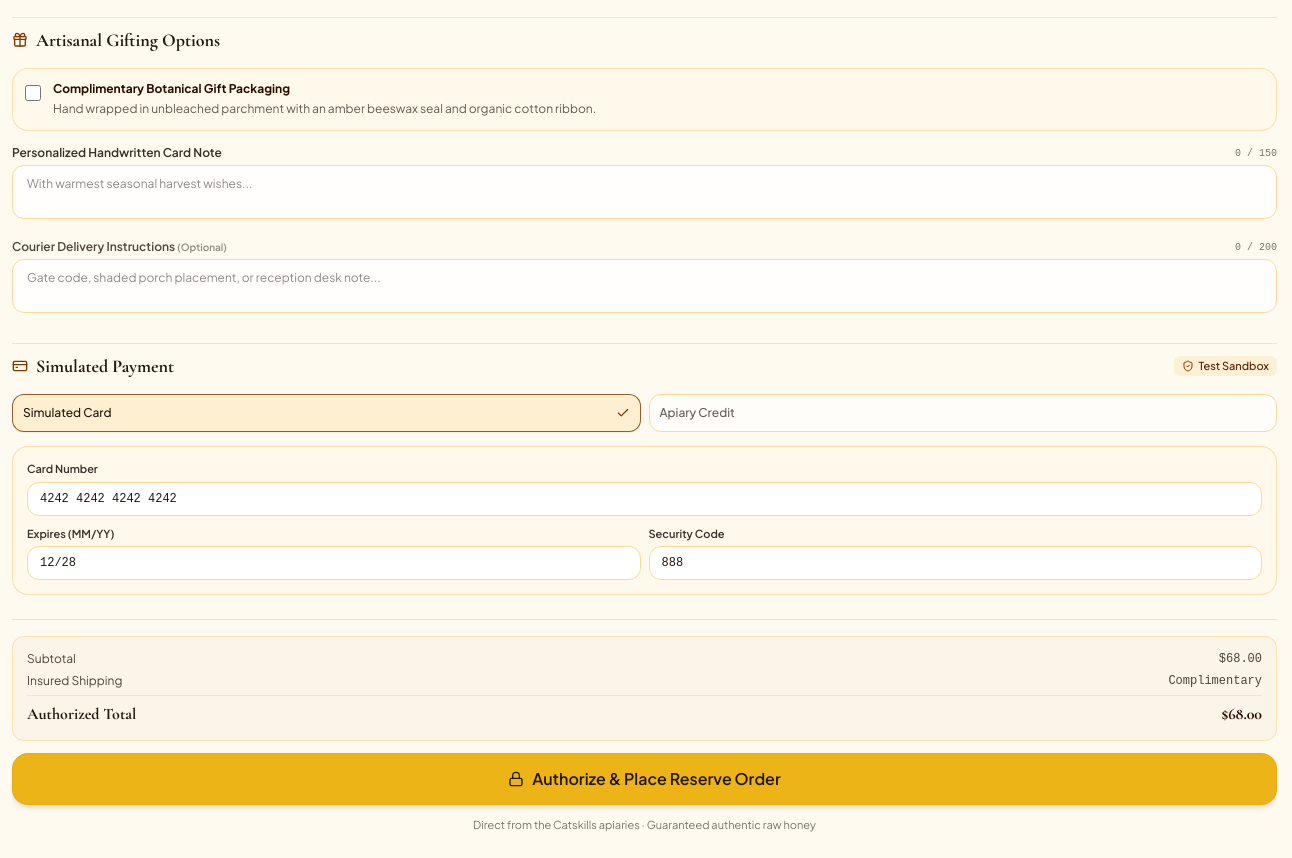
Test: CheckoutForm Component (satisfies AC-4, AC-5, AC-6, AC-7) › allows switching payment method between card and apiary reserve credit (AC-5)
(page scrolled)
What coordinates should you click on to do the following:
click the button "Apiary Credit"
I would click on:
 (697, 412)
Its box is [648, 394, 1277, 432].
(page scrolled)
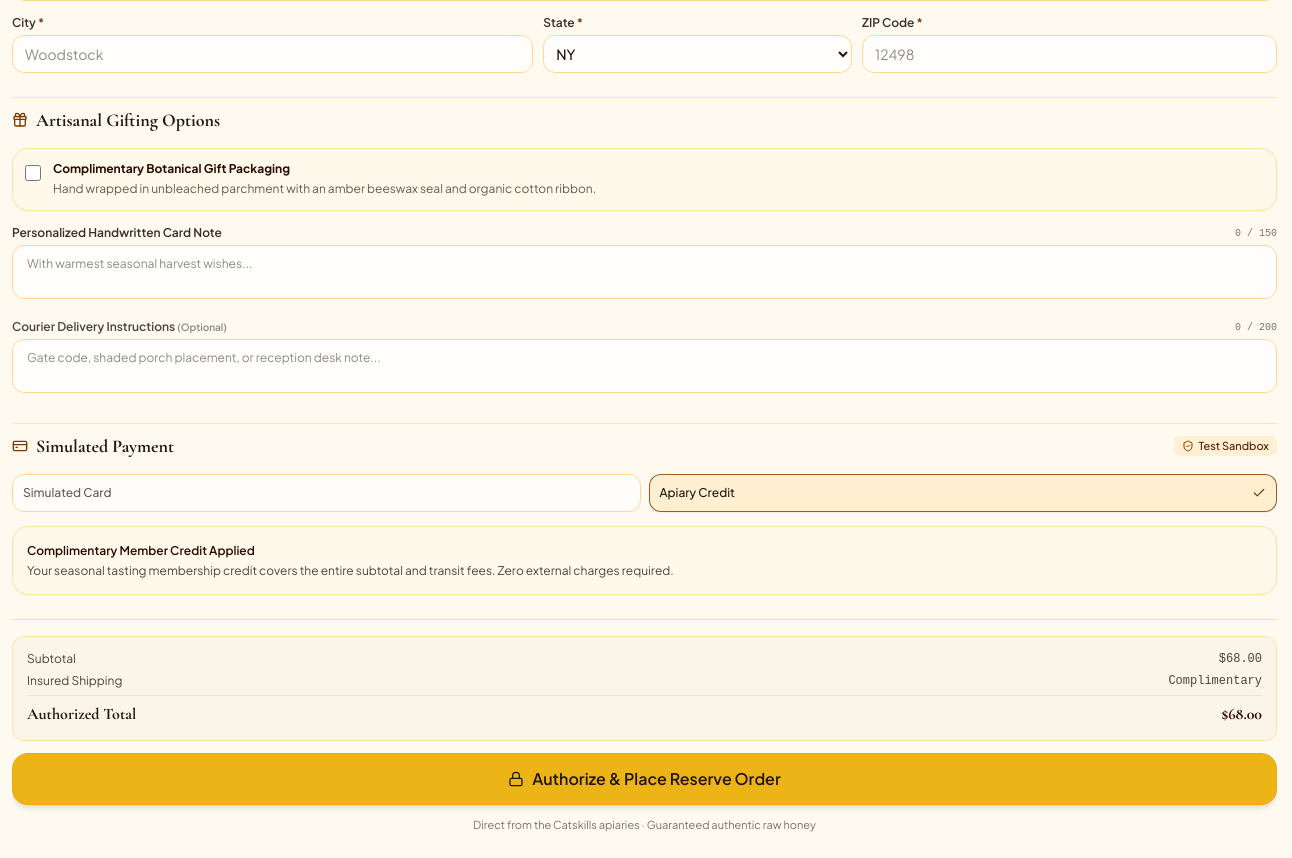
Result: the text "Complimentary Member Credit Applied" is shown at [27, 543, 255, 558]
Result: the label labelled "Card Number" is gone
What coordinates should you click on to do the following:
click the button "Simulated Card"
I would click on:
 (67, 492)
Its box is [12, 474, 640, 512].
(page scrolled)
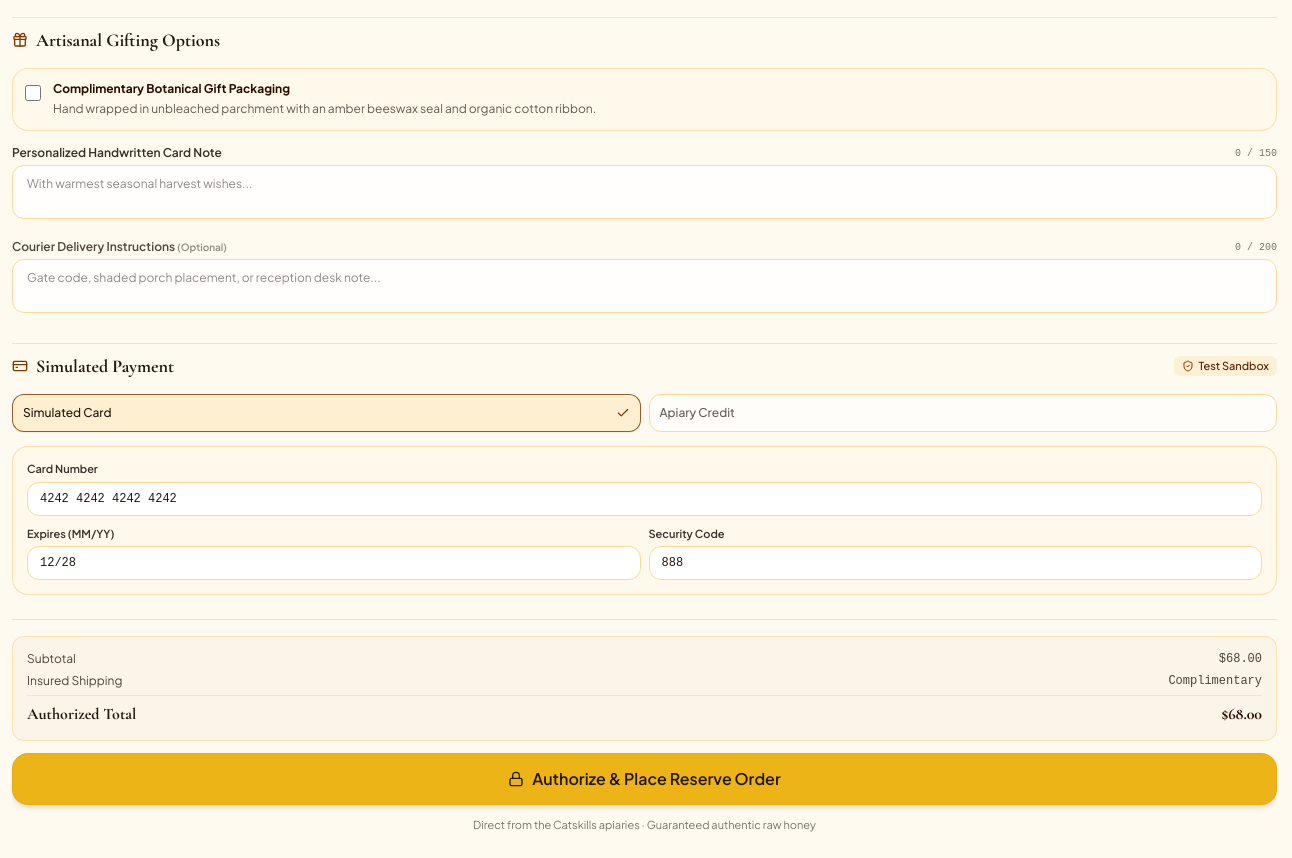
Result: the field labelled "Card Number" is shown at [27, 482, 1262, 516]
